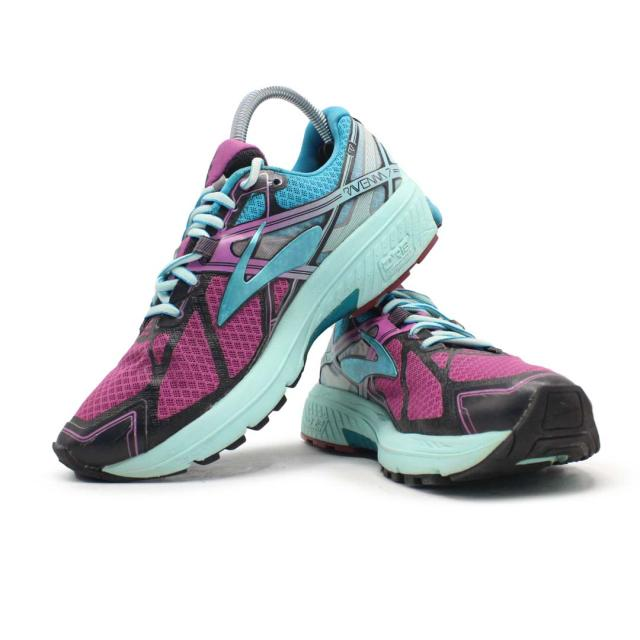heel: (325, 103, 409, 219)
midsole: (51, 174, 439, 485), (302, 382, 516, 487), (502, 388, 600, 466)
uppersole: (54, 139, 371, 464), (324, 291, 579, 434)
